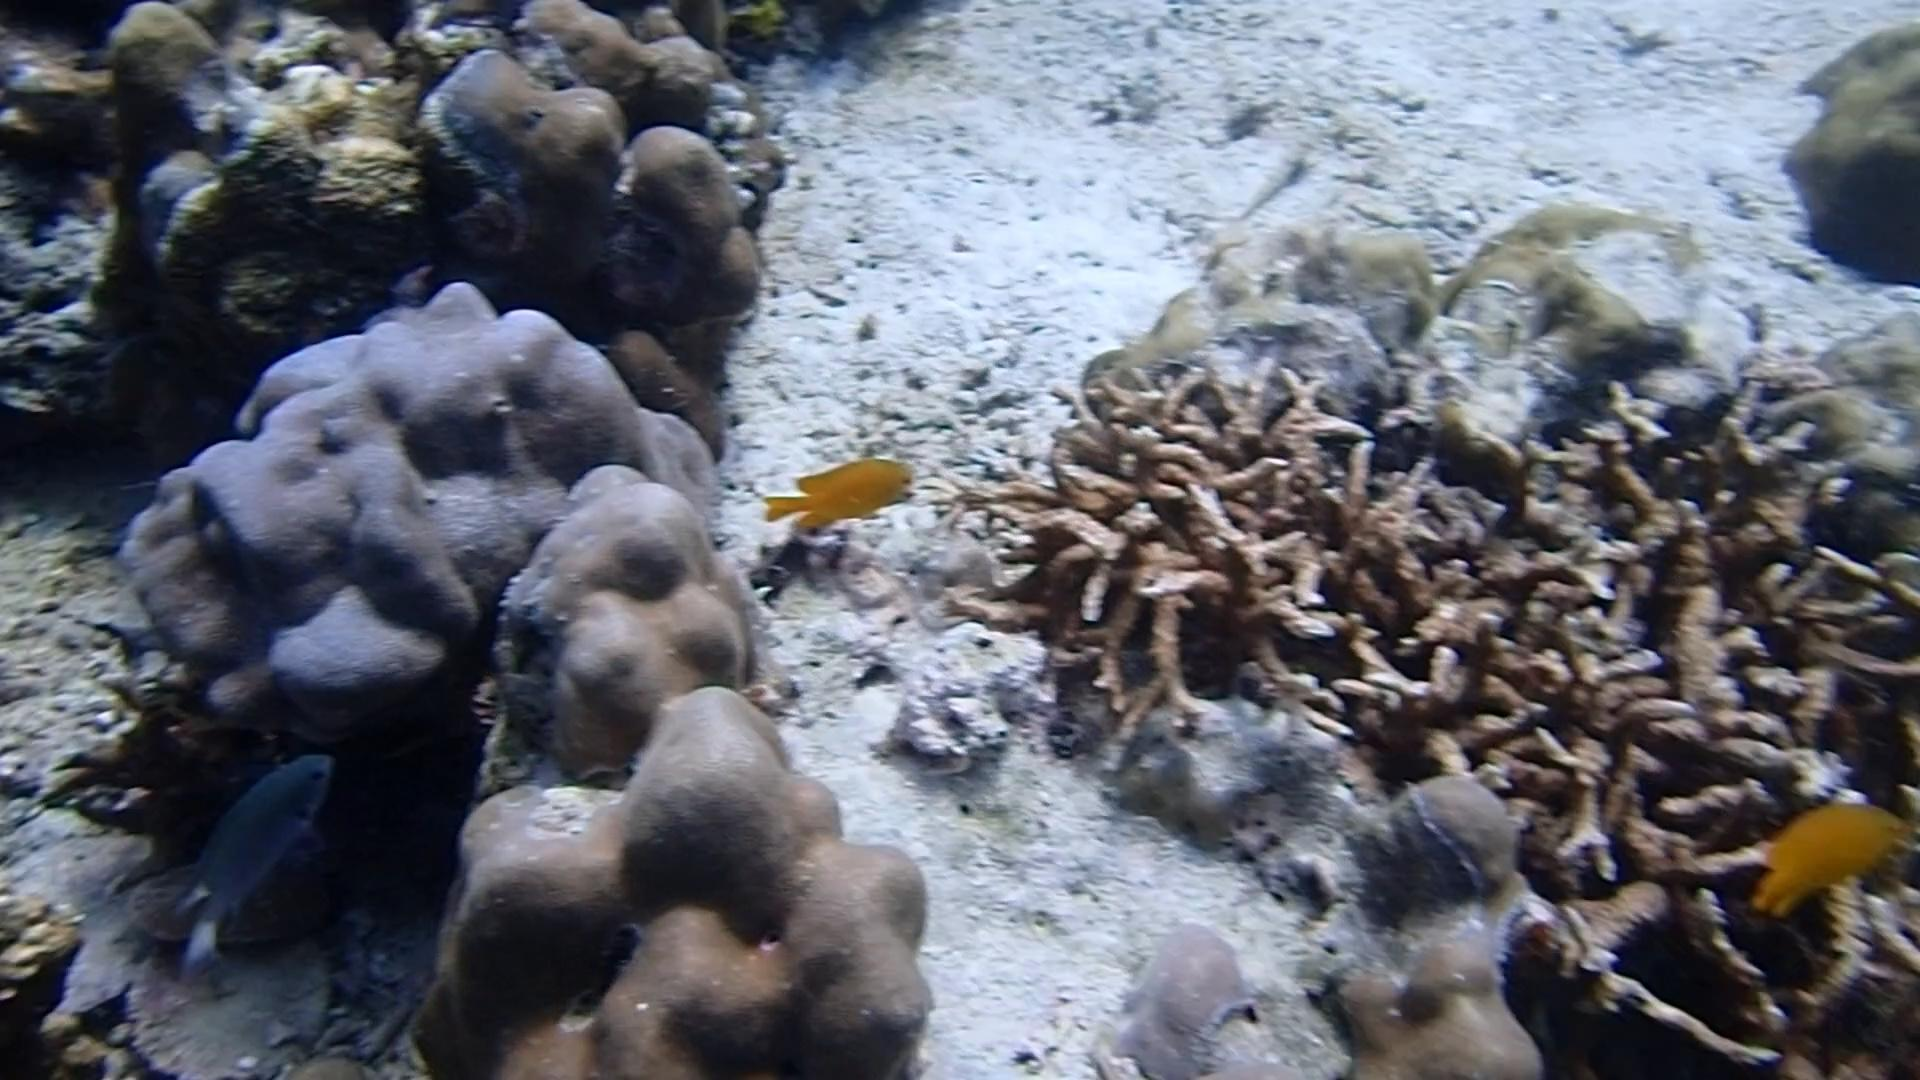Blue Fish Two: (160, 737, 340, 998)
Yellow Fish: (1741, 789, 1903, 923), (745, 446, 923, 546)
